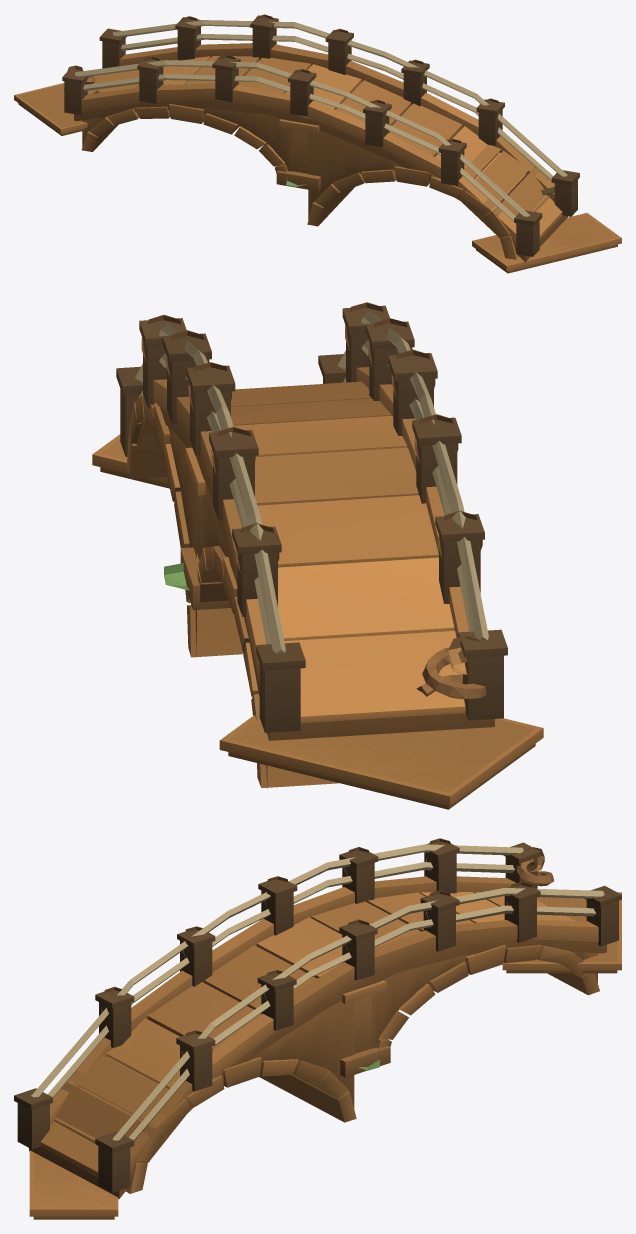
The model's file is hanuman-meeting.glb.
The picture shows the model from 3 angles, top to bottom: view 1: azimuth 30°, elevation 25°; view 2: azimuth 150°, elevation 25°; view 3: azimuth 270°, elevation 25°; orthographic projection. The views are drawn at different scales.
Visible parts, largest first — view 1: bridge-hanuman-meeting; view 2: bridge-hanuman-meeting; view 3: bridge-hanuman-meeting.
Boxes of the visible parts, x1,y1,x2,y2 form: bridge-hanuman-meeting: (14, 14, 621, 273); bridge-hanuman-meeting: (92, 302, 543, 809); bridge-hanuman-meeting: (14, 838, 621, 1219).
Bounding box in the file's own units: 1.44 × 0.5977 × 1.58.
